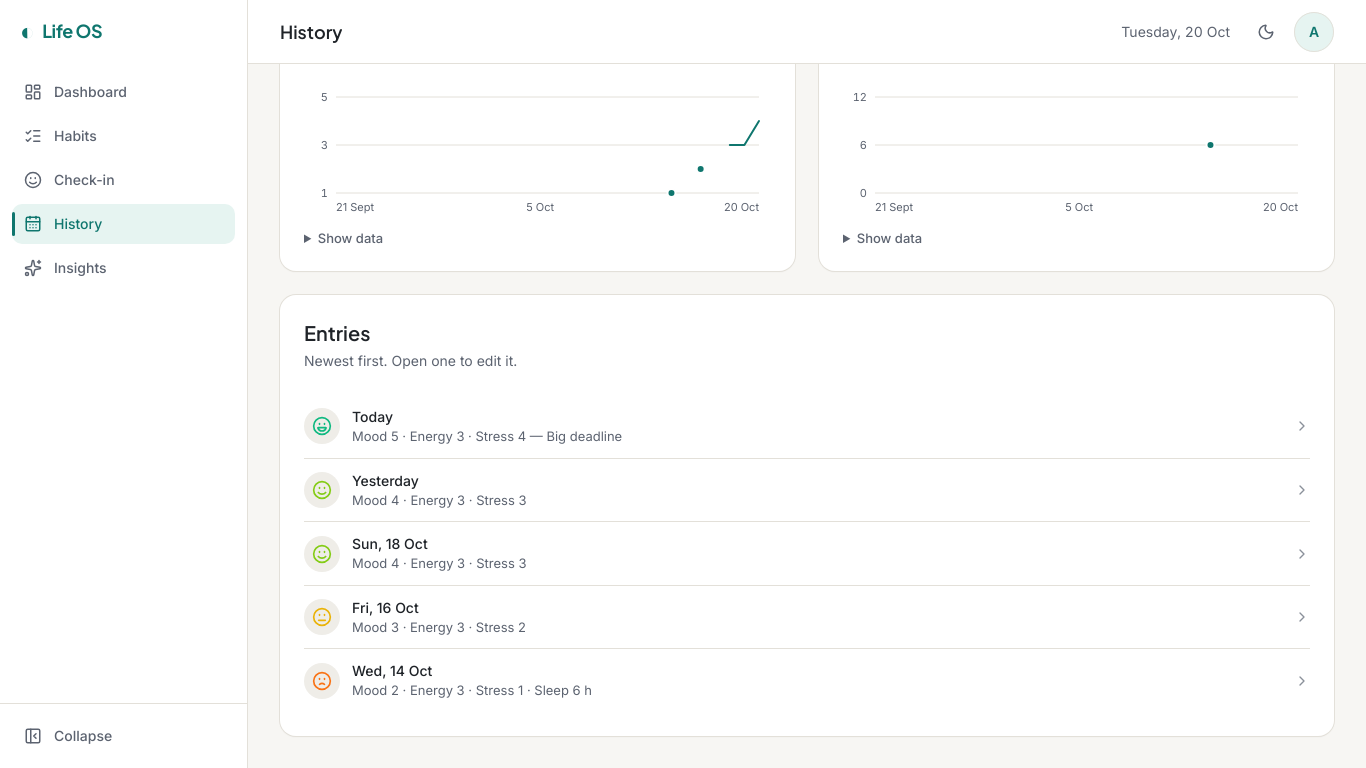
Scenario: CheckInHistoryPage › opens a past entry in the check-in form
This screenshot has width=1366, height=768.
(page scrolled)
Click the link with aria-label "Yesterday:" at (322, 490), box [304, 472, 1310, 508]
(page scrolled)
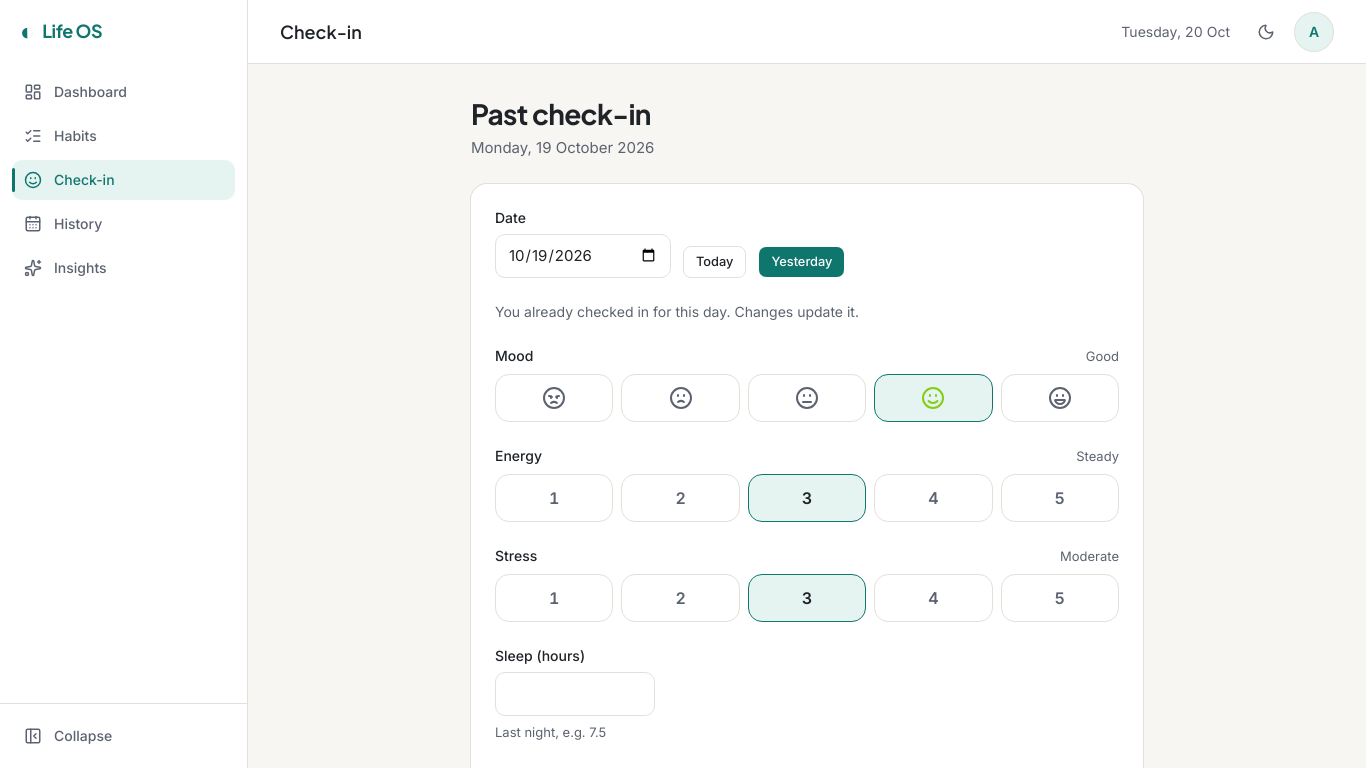
Check: the heading "Past check-in" is shown, box [471, 96, 654, 132]
